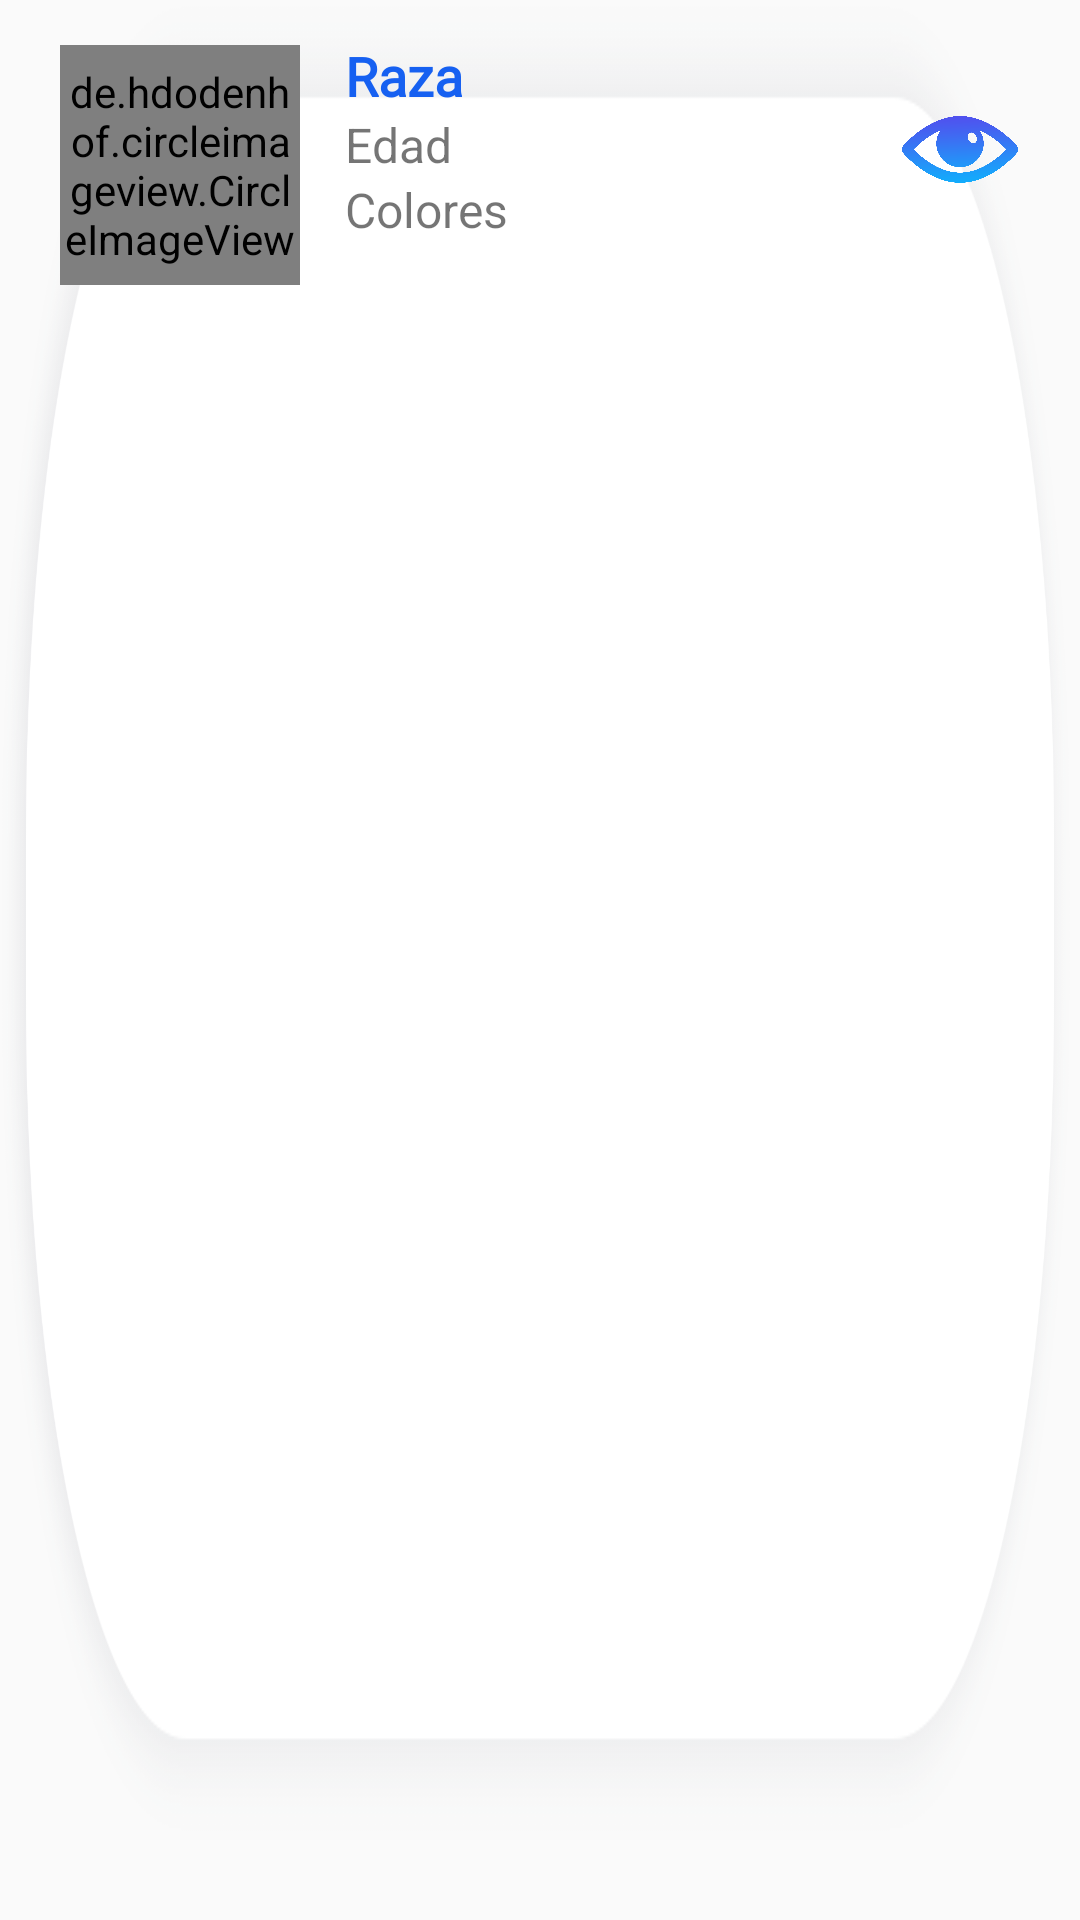

Icon bounding boxes for this 1080*1920 phone screenshot, format {"x1": x1, "y1": y1, "x2": x2, "y2": y2}:
ojito: {"x1": 902, "y1": 116, "x2": 1018, "y2": 183}
